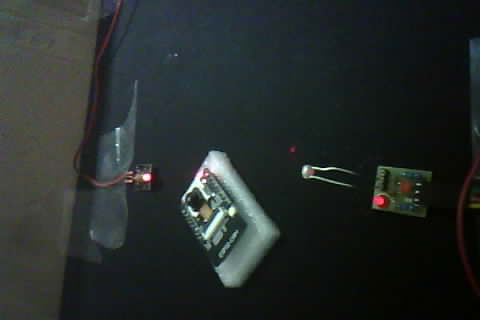esp32: (179, 151, 281, 288)
